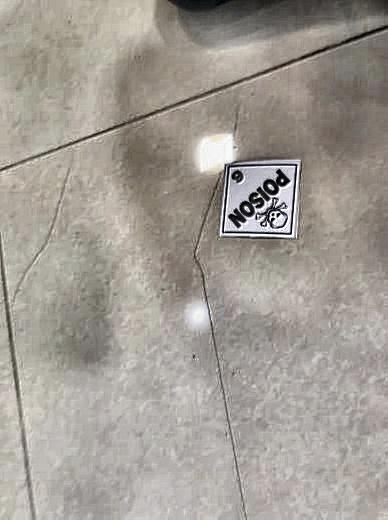poison: (220, 161, 302, 237)
